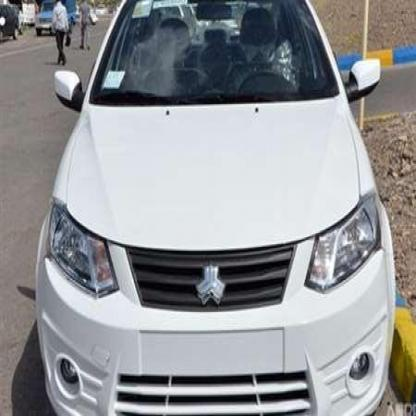Car: (40, 0, 394, 416), (32, 0, 77, 35), (0, 0, 27, 33)
